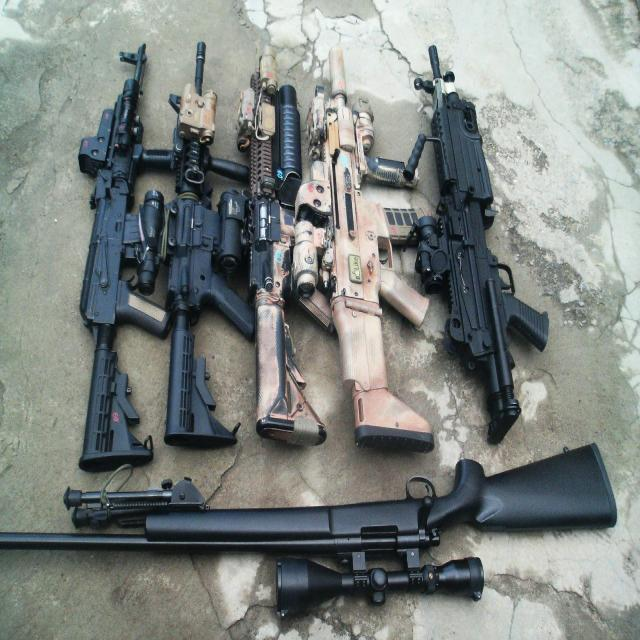firearm: (0, 441, 620, 620), (299, 46, 437, 451), (419, 44, 554, 446), (77, 43, 172, 474), (164, 42, 247, 447), (249, 51, 303, 442)
